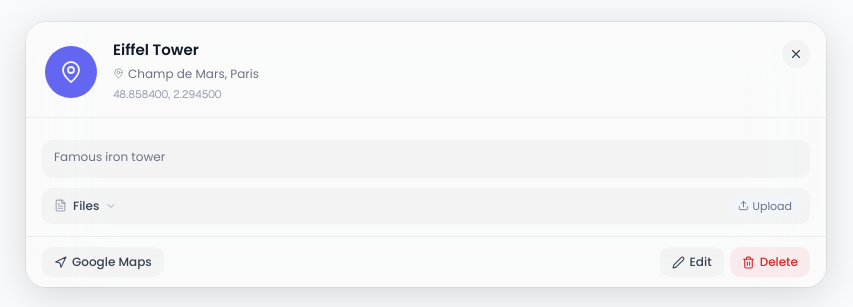
Test: PlaceInspector › FE-PLANNER-INSPECTOR-021: pressing Escape cancels edit
The width and height of the screenshot is (853, 307).
Double-click the text "Eiffel Tower" at (156, 50), box left=113, top=40, right=199, bottom=60
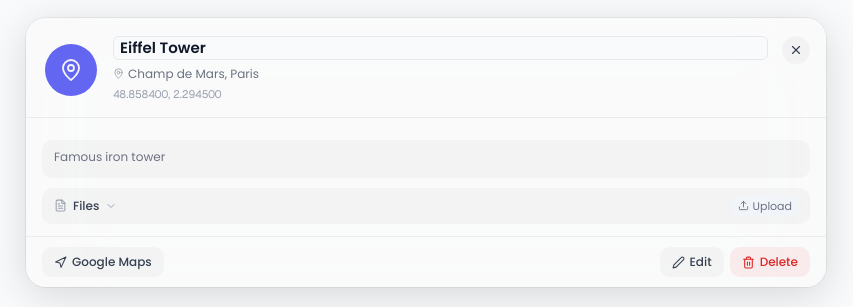
Result: the field showing "Eiffel Tower" is shown at left=113, top=36, right=768, bottom=60
Press Escape
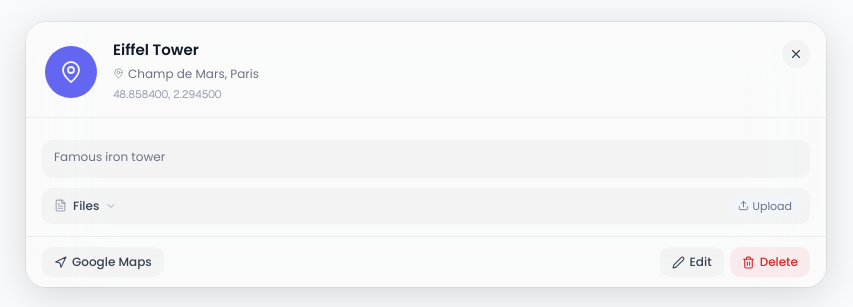
Result: the text "Eiffel Tower" is shown at left=113, top=40, right=199, bottom=60
